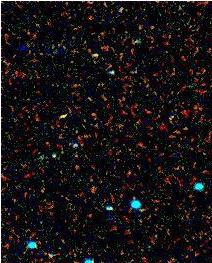star: (77, 176, 107, 206)
